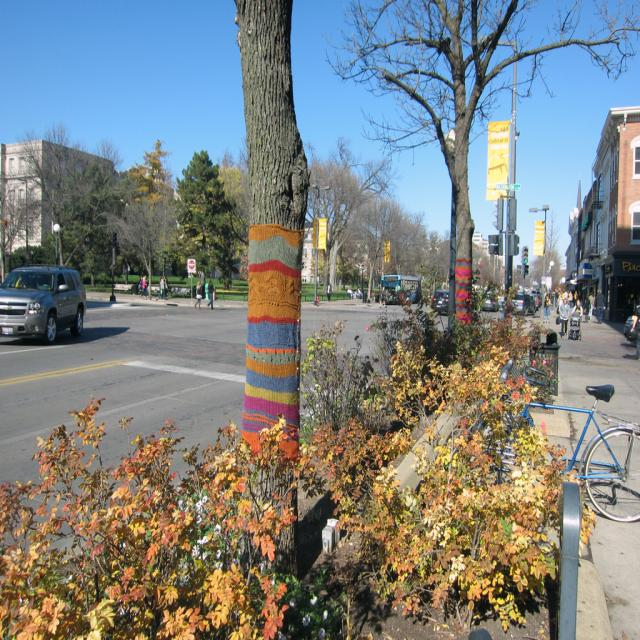car: (432, 286, 450, 313), (514, 296, 527, 317)
